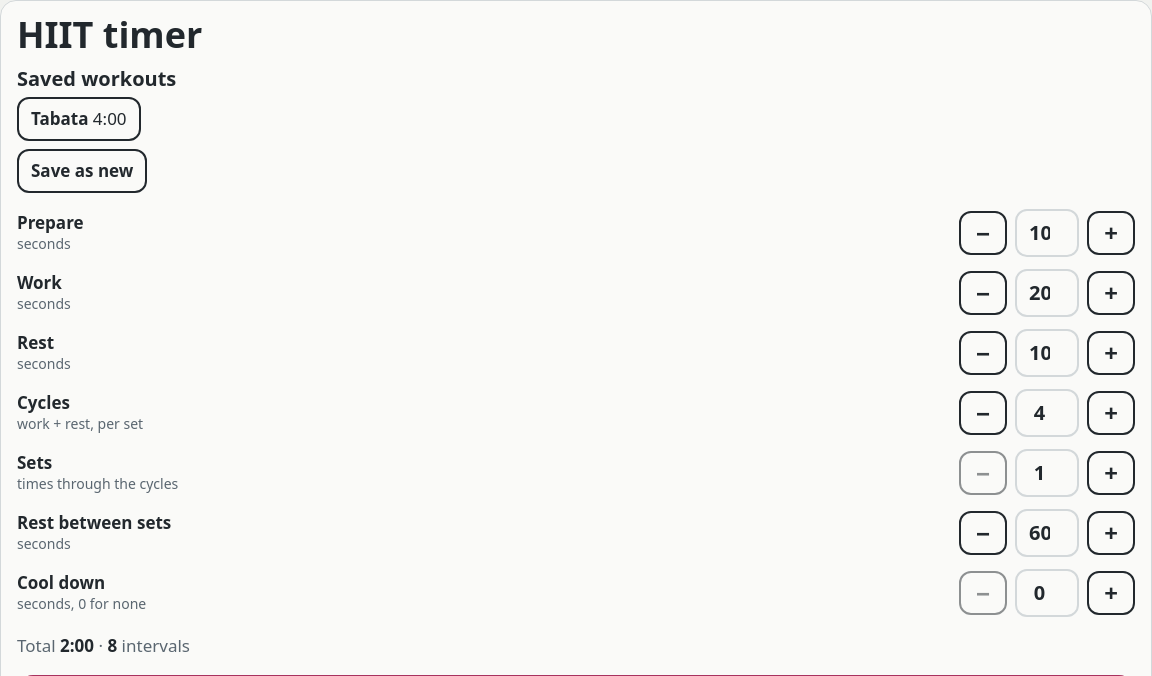
Test: − and + change a setting within its limits, and typing is clamped on blur
This screenshot has width=1152, height=676.
Click the button named "More sets".
click(1111, 473)  # box [1087,451,1135,495]
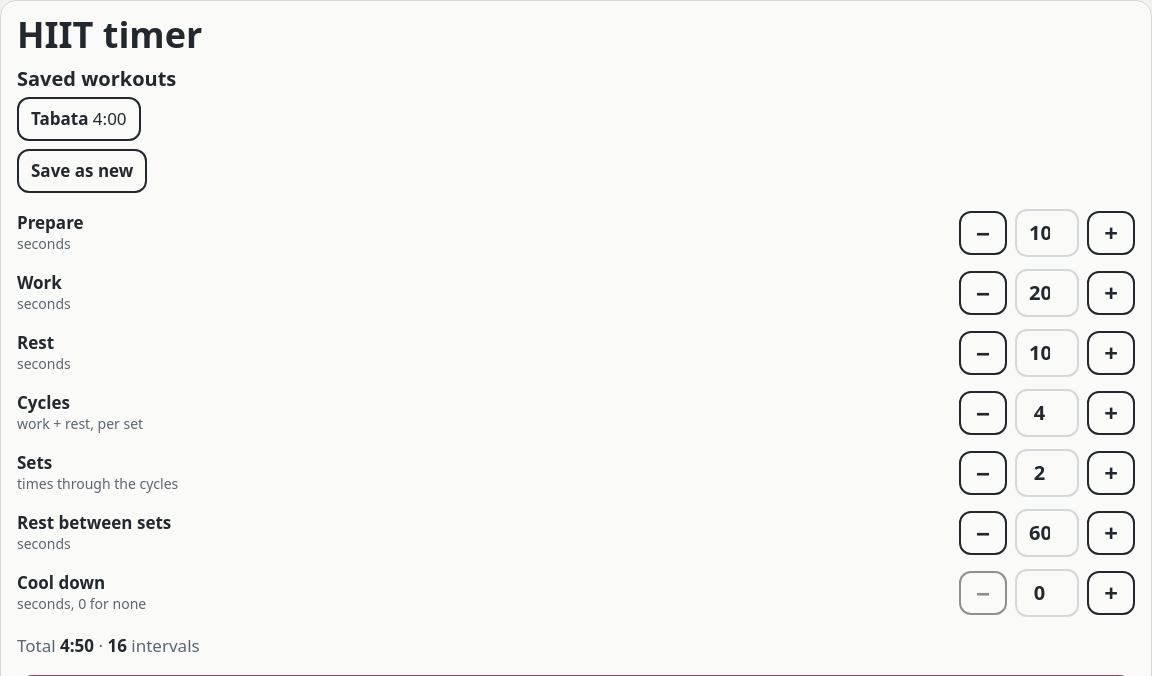
Result: the number field labelled "Sets" holds "2" at [1015,449,1079,497]
Result: the text "Total 4:50 · 16 intervals" is shown at [17,634,200,657]
Click the button named "Less rest".
click(983, 353)  # box [959,331,1007,375]
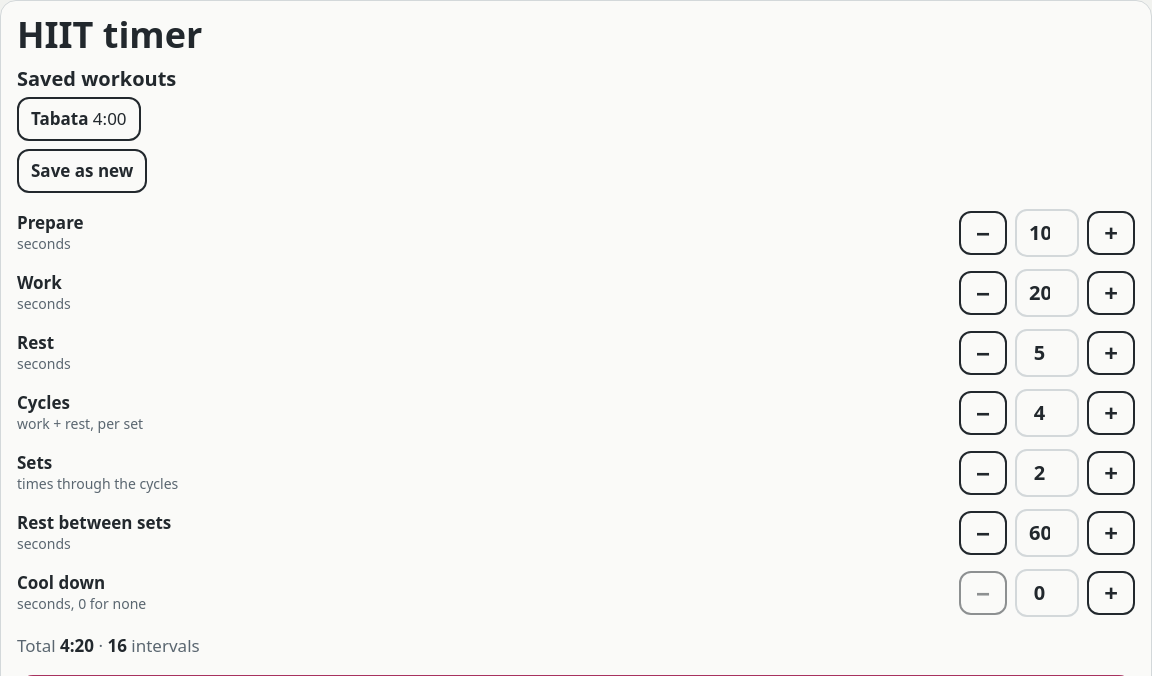
Click the button named "Less rest".
click(983, 353)  # box [959,331,1007,375]
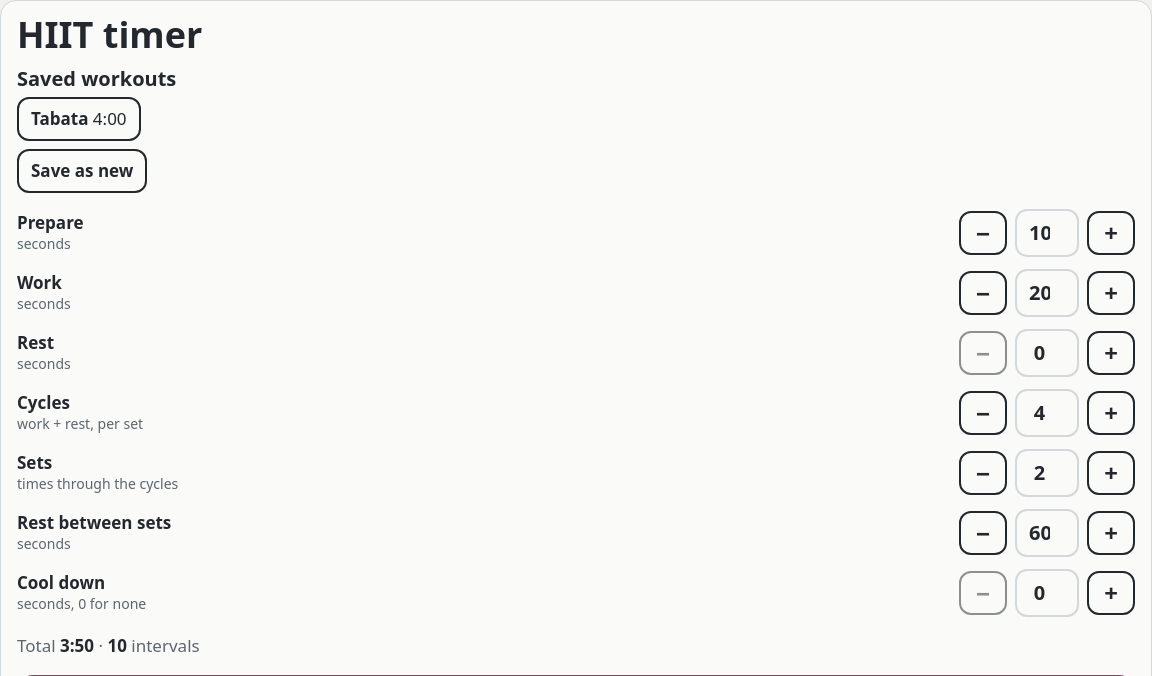
Result: the number field labelled "Rest" holds "0" at [1015,329,1079,377]
Result: the button named "Less rest" is disabled at [959,331,1007,375]
Replace the text in the number field labelled "Work" with "0" at (1047, 293), box [1015,269,1079,317]
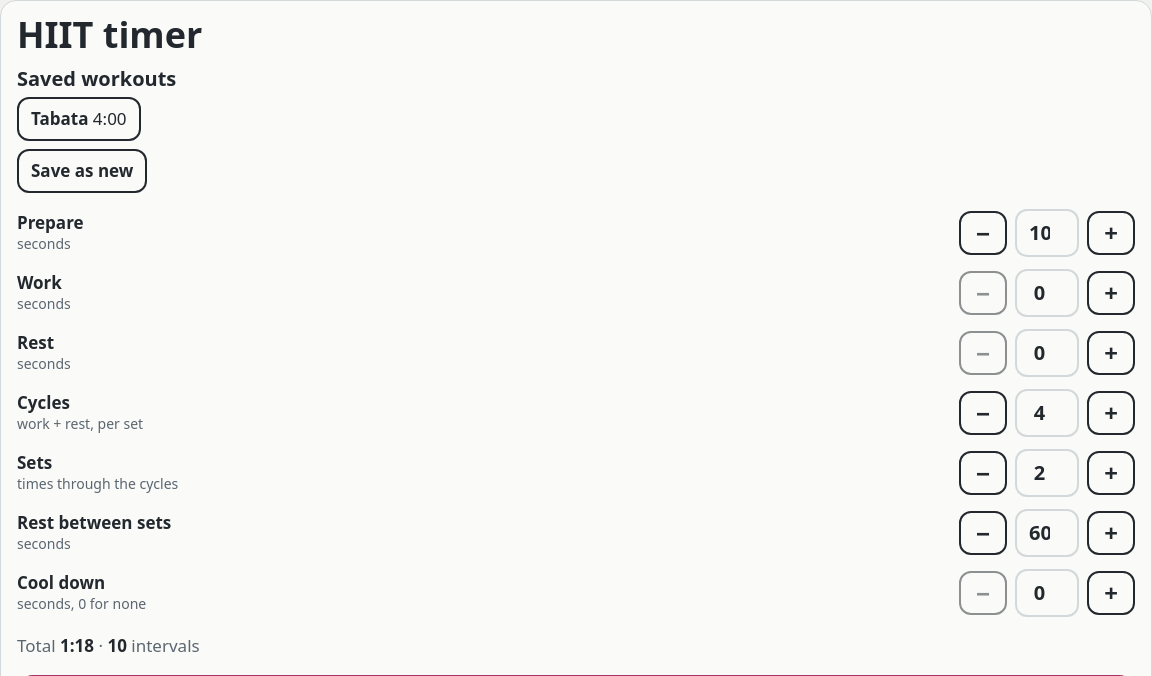
Leave the number field labelled "Work", box [1015,269,1079,317]
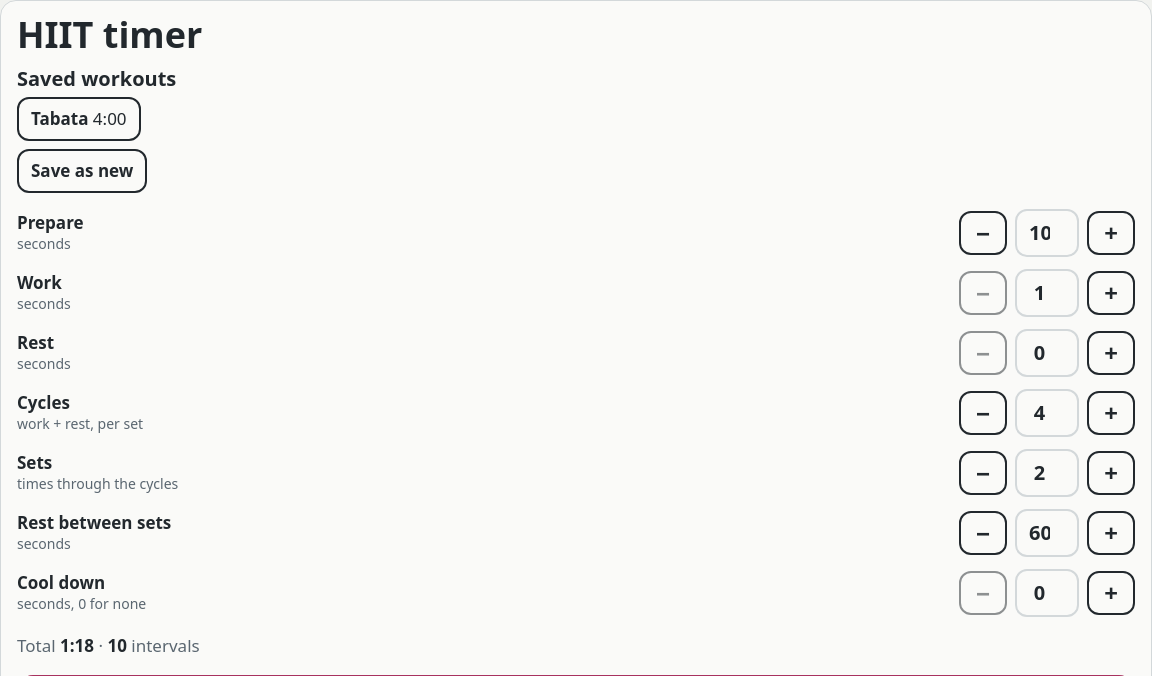
Result: the number field labelled "Work" holds "1" at [1015,269,1079,317]
